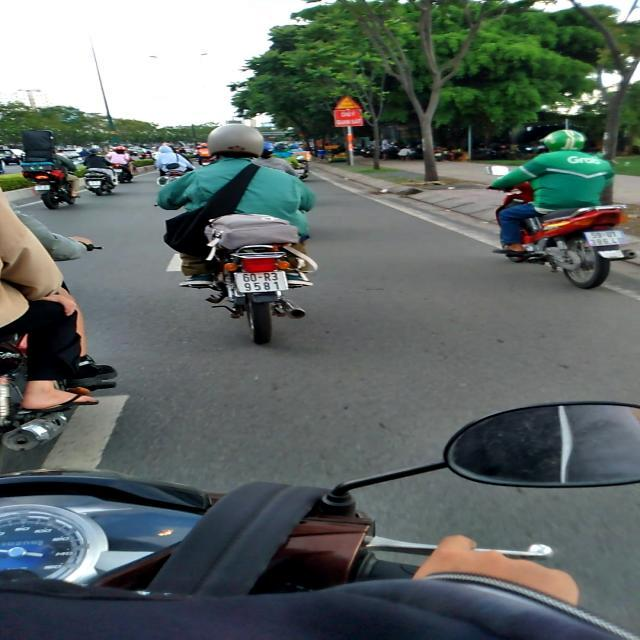Di cham: (333, 95, 362, 110)
